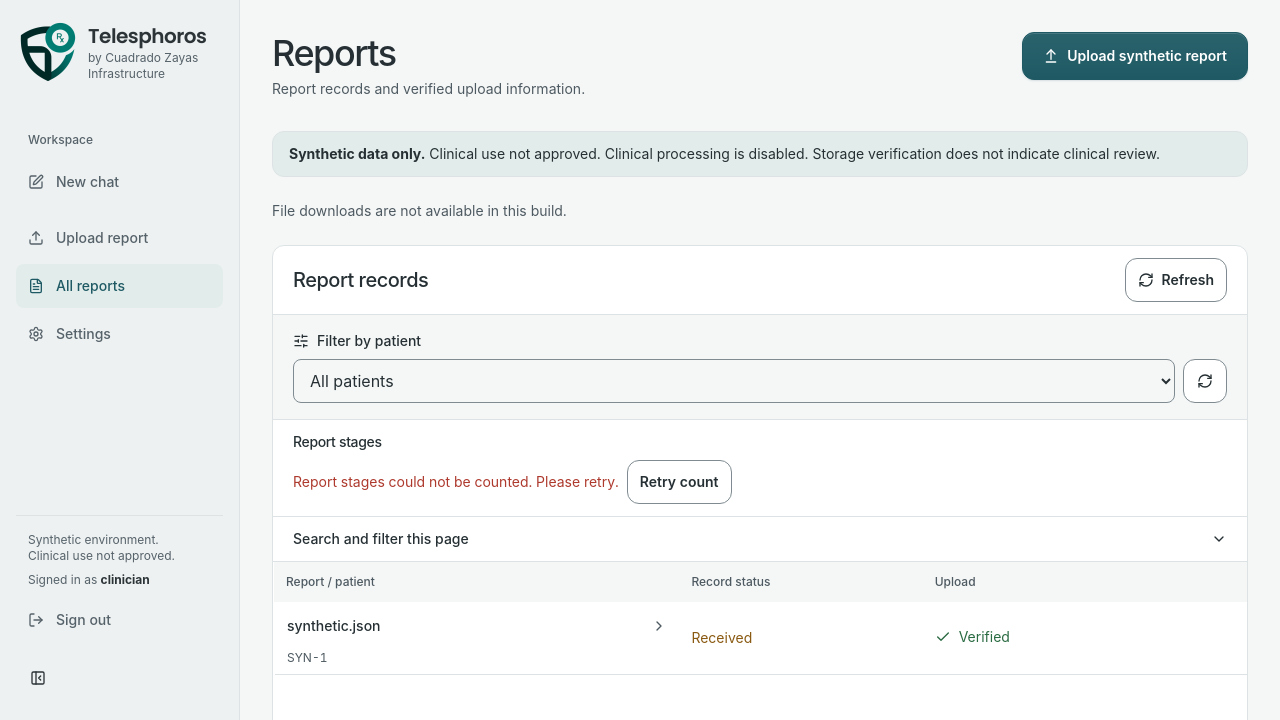
the reports page in the published build › lists the organization’s reports from the API and opens their details
The image size is (1280, 720).
Click the button with aria-label "Open synthetic.json" at [334, 626], box left=287, top=602, right=667, bottom=650
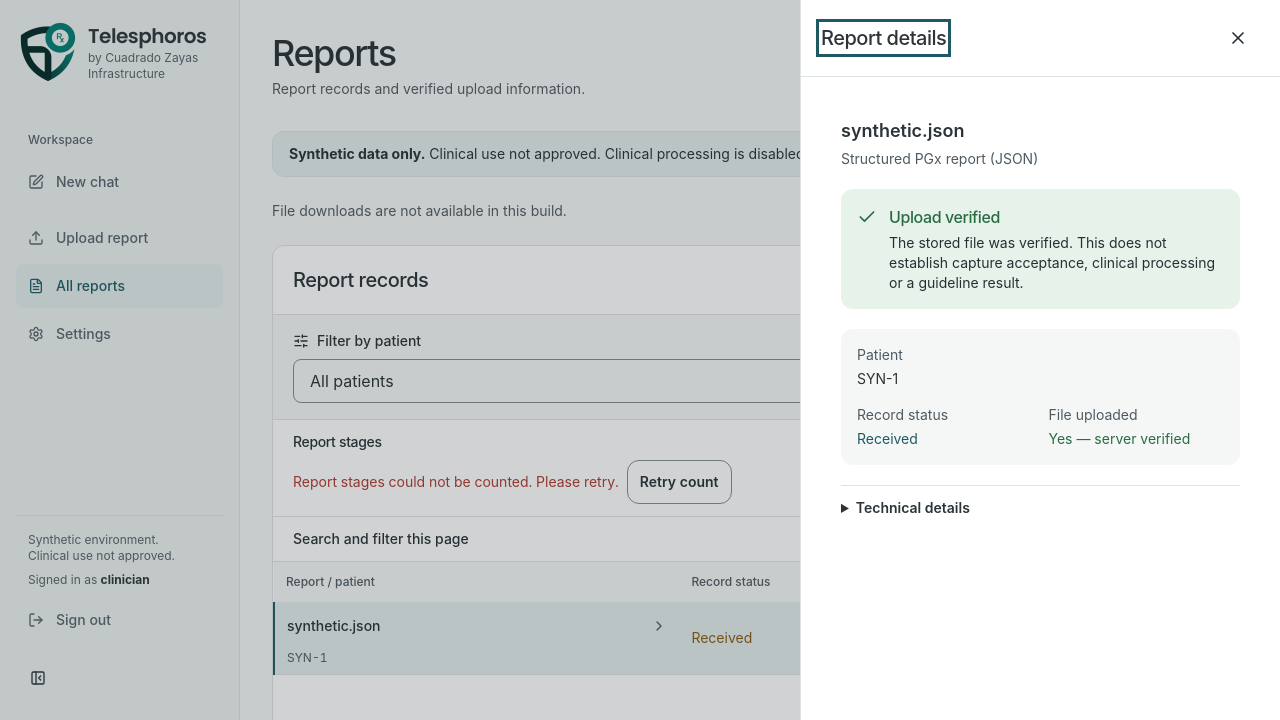
Check: the text "Yes — server verified" is shown, box left=1048, top=430, right=1190, bottom=447
